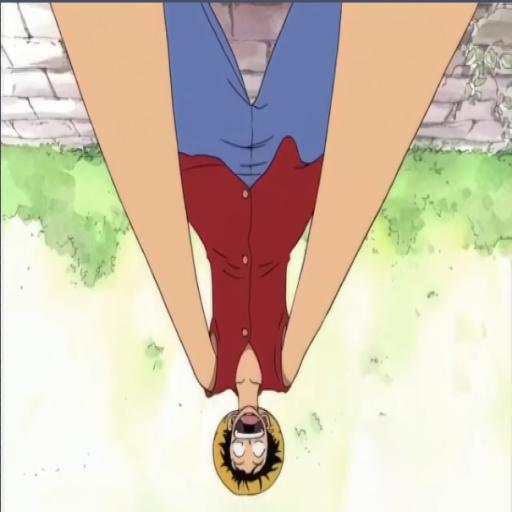Luffy: (42, 0, 479, 512)
